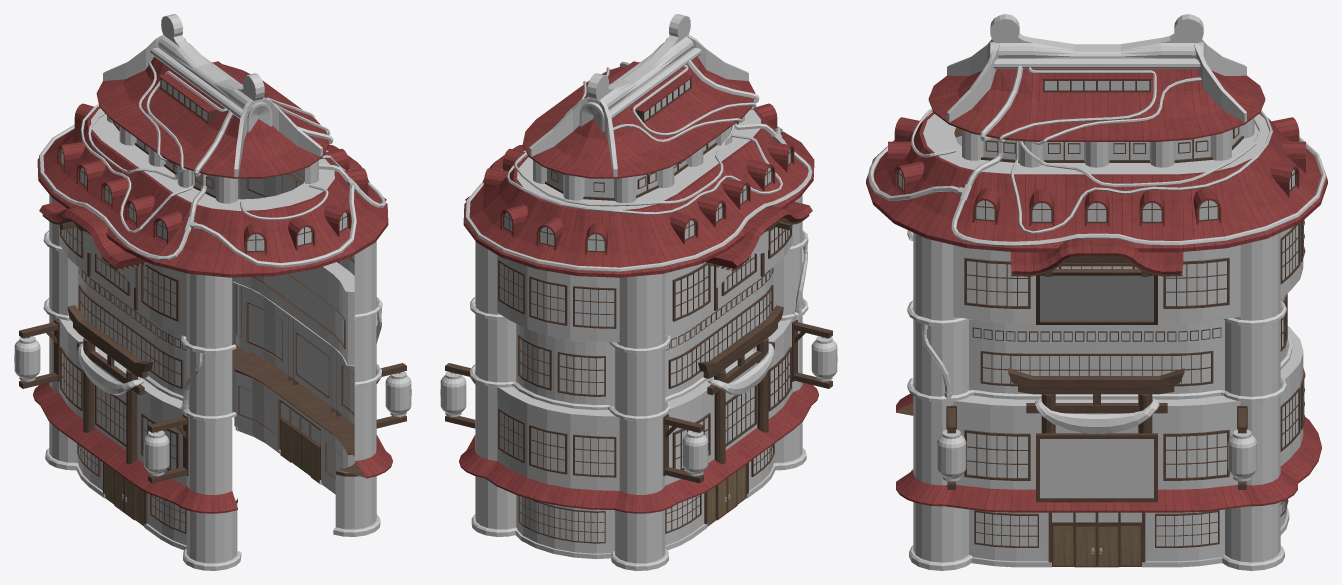
Rendered from REDUCTION_SM_ENV_KNVLLG_CommonBuilding_E_3.mo.fbx.
3 views of the same model, side by side, from view 1: azimuth 30°, elevation 25°; view 2: azimuth 150°, elevation 25°; view 3: azimuth 270°, elevation 25° (orthographic). The views are drawn at different scales.
Visible parts, largest first — view 1: REDUCTION_SM_ENV_KNVLLG_CommonBuilding_E_3.mo; view 2: REDUCTION_SM_ENV_KNVLLG_CommonBuilding_E_3.mo; view 3: REDUCTION_SM_ENV_KNVLLG_CommonBuilding_E_3.mo.
Boxes of the visible parts, x1,y1,x2,y2 form: REDUCTION_SM_ENV_KNVLLG_CommonBuilding_E_3.mo: (14, 14, 411, 570); REDUCTION_SM_ENV_KNVLLG_CommonBuilding_E_3.mo: (440, 14, 837, 570); REDUCTION_SM_ENV_KNVLLG_CommonBuilding_E_3.mo: (866, 14, 1327, 570).
Bounding box in the file's own units: 27.6 × 43.2 × 36.
